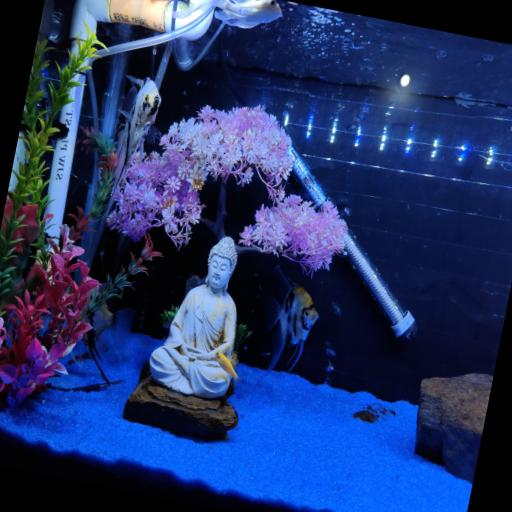Fish: (106, 76, 160, 213), (266, 267, 318, 371), (85, 287, 134, 384), (175, 0, 281, 28), (88, 303, 134, 343), (214, 351, 239, 380)
